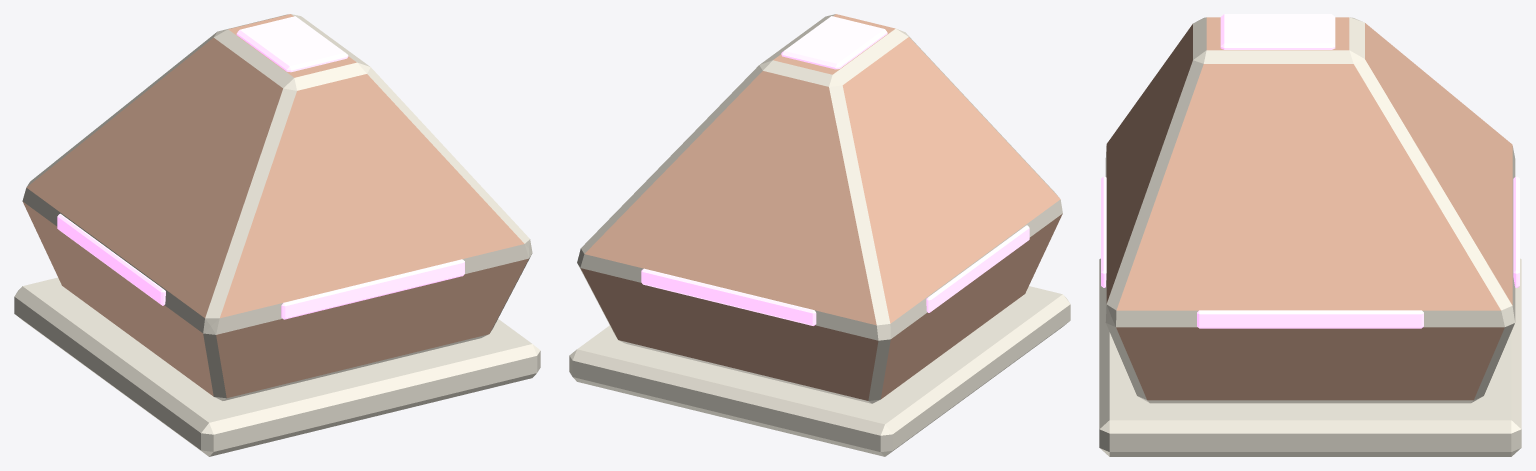
The model's file is R4X_Stealth_LOD1.fbx.
The picture shows the model from 3 angles, left to right: view 1: azimuth 30°, elevation 25°; view 2: azimuth 150°, elevation 25°; view 3: azimuth 270°, elevation 25°; orthographic projection. The views are drawn at different scales.
Visible parts, largest first — view 1: R4X_Stealth_LOD1; view 2: R4X_Stealth_LOD1; view 3: R4X_Stealth_LOD1.
Part boxes in pixels (bbox=[...]): R4X_Stealth_LOD1: bbox=[14, 14, 540, 456]; R4X_Stealth_LOD1: bbox=[569, 14, 1070, 456]; R4X_Stealth_LOD1: bbox=[1099, 14, 1521, 456].
Size of the model in its own units: 0.52 by 0.4669 by 0.52.
